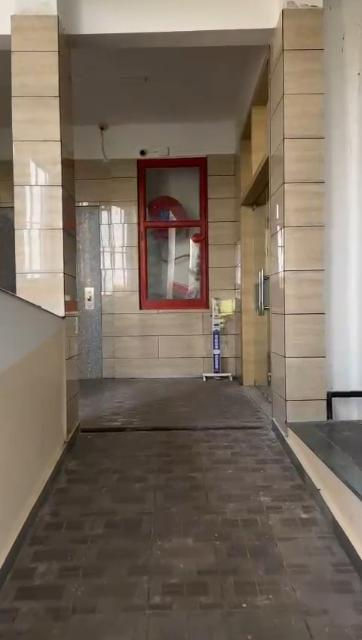door: (251, 201, 269, 385)
floor: (6, 381, 362, 640)
wall: (286, 24, 362, 372), (16, 20, 68, 388), (100, 206, 138, 378), (0, 302, 22, 548), (210, 156, 242, 292), (16, 379, 66, 459), (140, 314, 202, 378), (76, 160, 138, 202), (287, 374, 325, 424)
